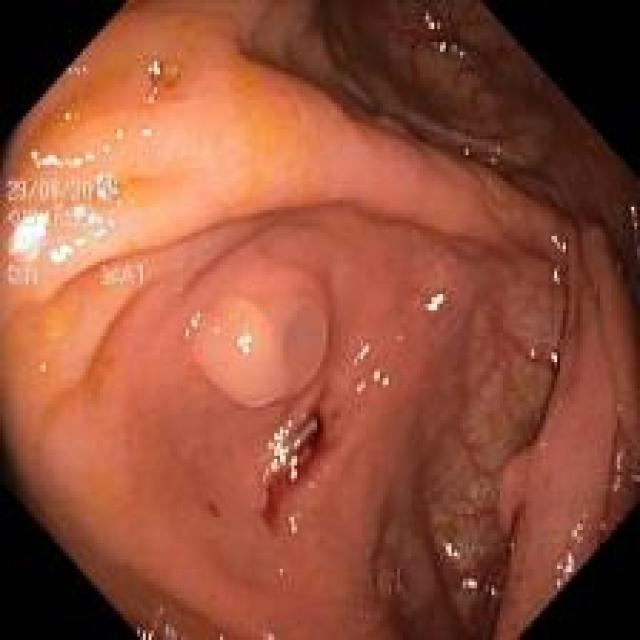Polyps: (190, 256, 328, 408)
